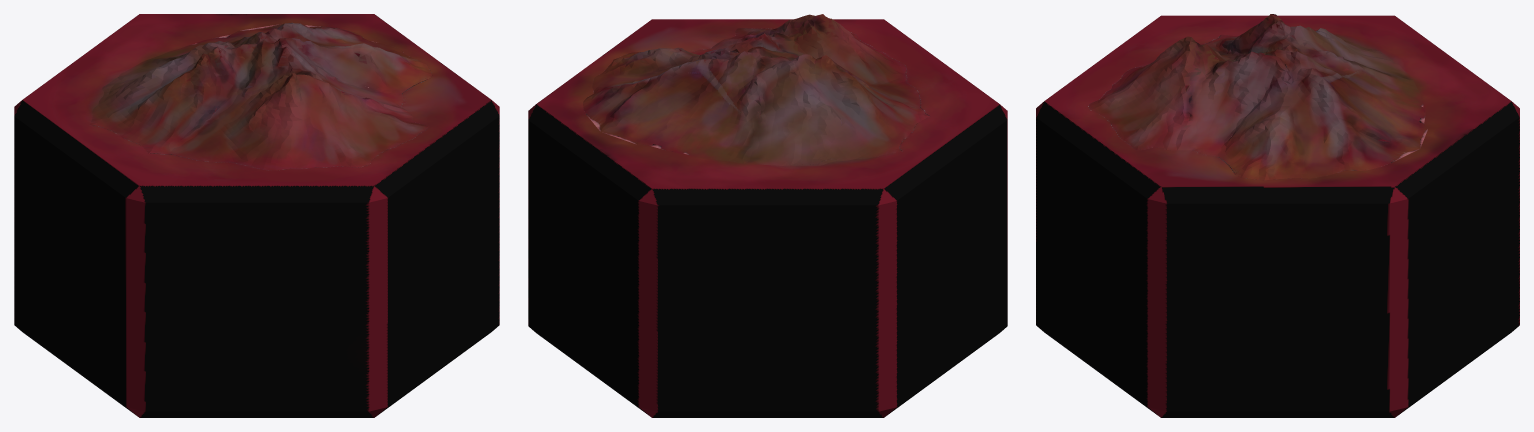
Rendered from 02.Red (large).fbx.
The picture shows the model from 3 angles, left to right: view 1: azimuth 30°, elevation 25°; view 2: azimuth 150°, elevation 25°; view 3: azimuth 270°, elevation 25°; orthographic projection.
Parts seen in each view (by area): view 1: 02.Red; view 2: 02.Red; view 3: 02.Red.
Boxes of the visible parts, bbox=[...] form: 02.Red: bbox=[14, 14, 499, 417]; 02.Red: bbox=[528, 14, 1007, 417]; 02.Red: bbox=[1036, 14, 1519, 417].
Bounding box in the file's own units: 446 × 334 × 502.
Materials: 1 (1 with a texture image).
